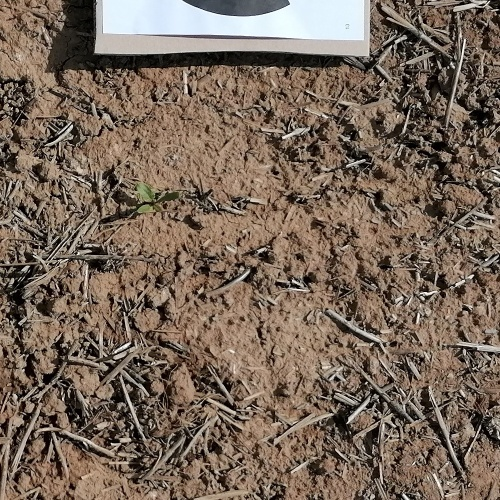beet: (133, 181, 183, 214)
